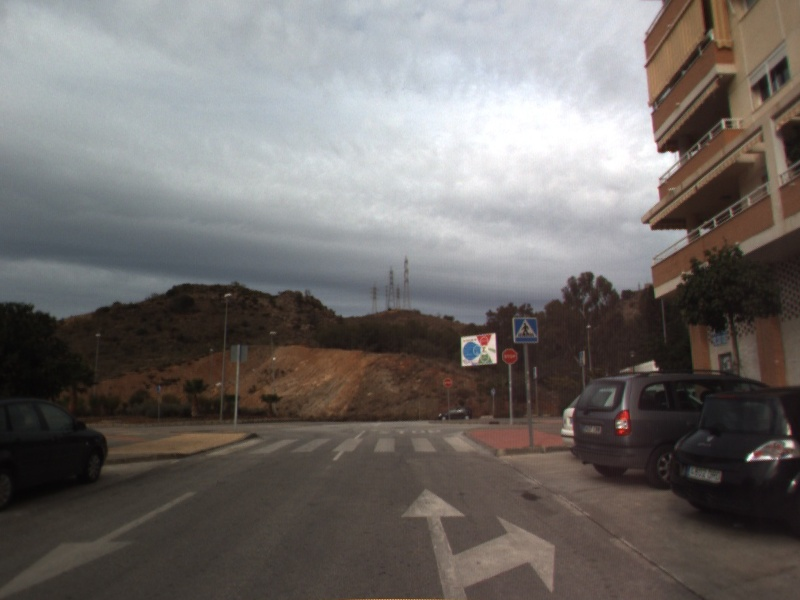STRAIGHT_RIGHT: (399, 486, 557, 600)
